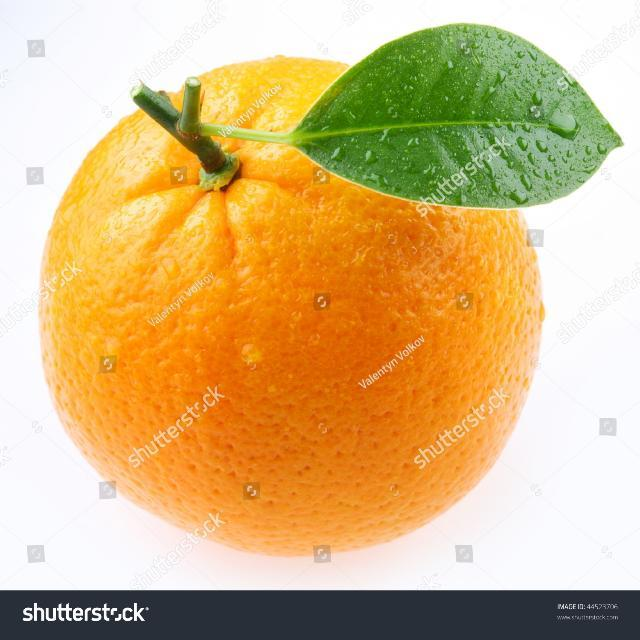Orange: (36, 53, 546, 558)
